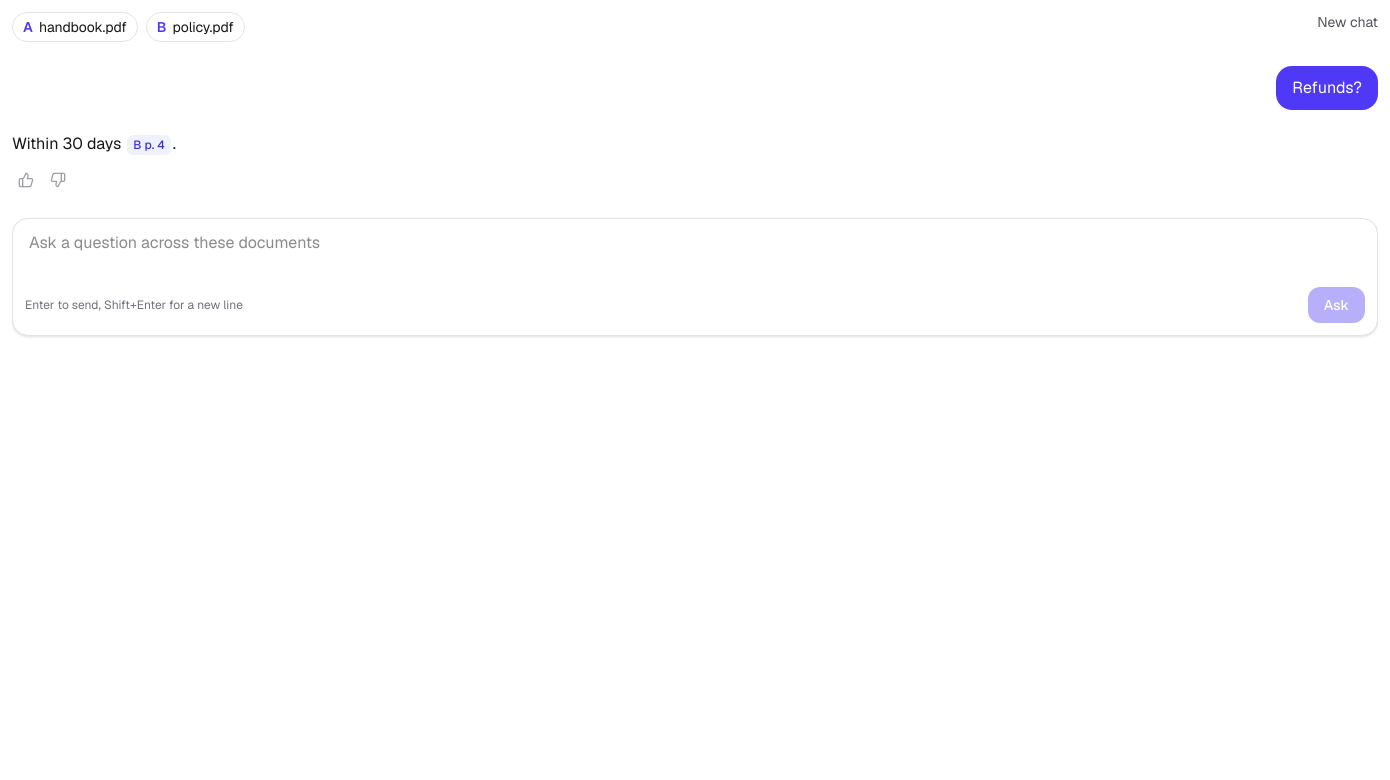
Test: ChatView — across documents › lists the chat's documents by letter, and opens the cited document's page
The image size is (1390, 780).
Expected: the text "handbook.pdf" is shown, [39,17,127,37]
Expected: the text "policy.pdf" is shown, [172,17,234,37]
What coordinates should you click on to do the following:
click the button named "Open page 4 of policy.pdf"
I would click on:
 (149, 145)
Its box is [127,135,171,155].
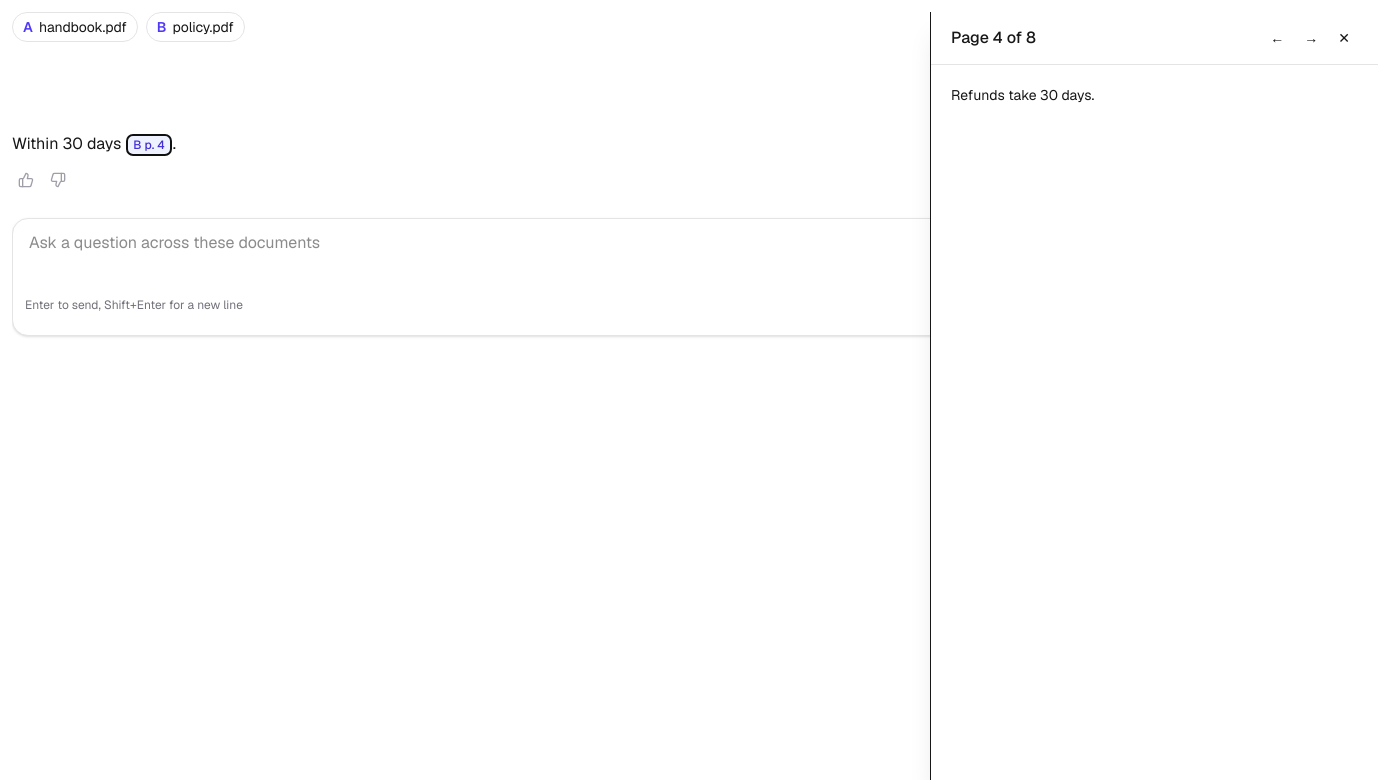
Now the text "Refunds take 30 days." is shown, box [951,86,1094,104]
